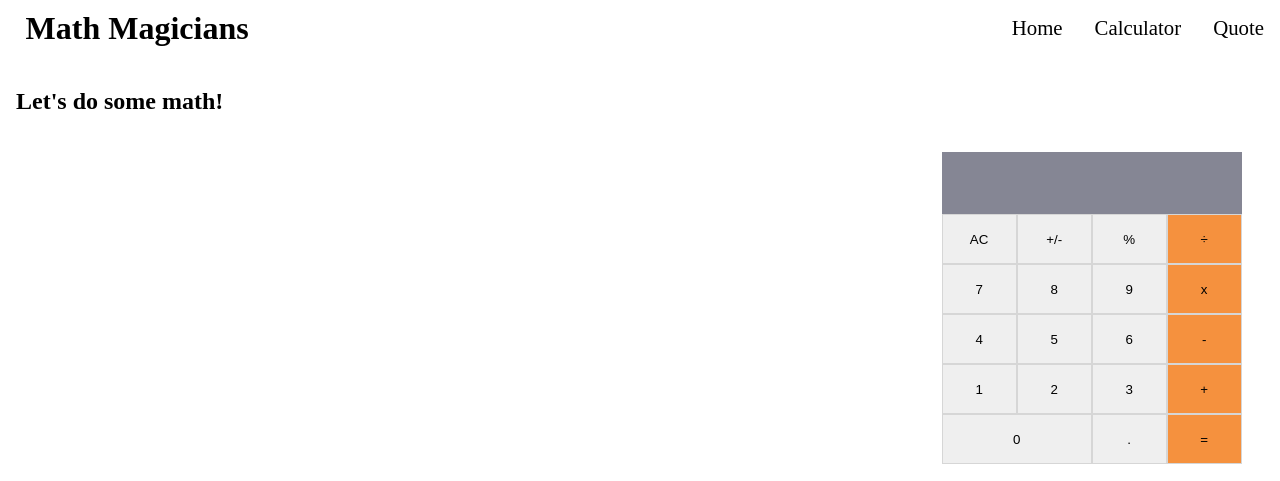
Scenario: App tests › should navigate to Quote page and find the find the quote
Click the link "Quote" at x=1239, y=28, box [1213,16,1264,39]
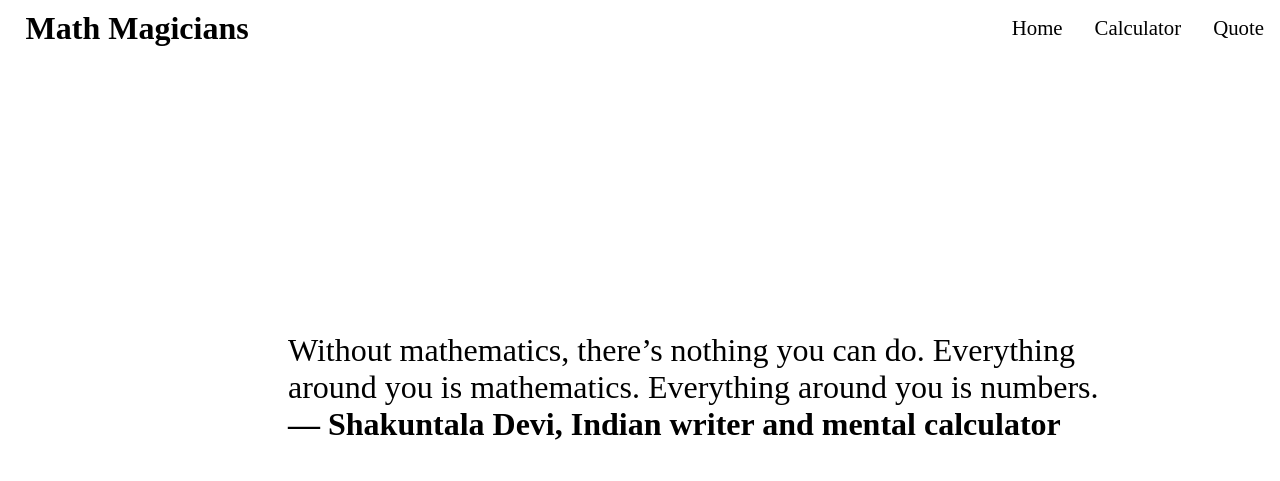
Now the text "without mathematics, there’s nothing you can do. everything around you is mathematics. everything around you is number" is shown, box [288,332,1098,404]
